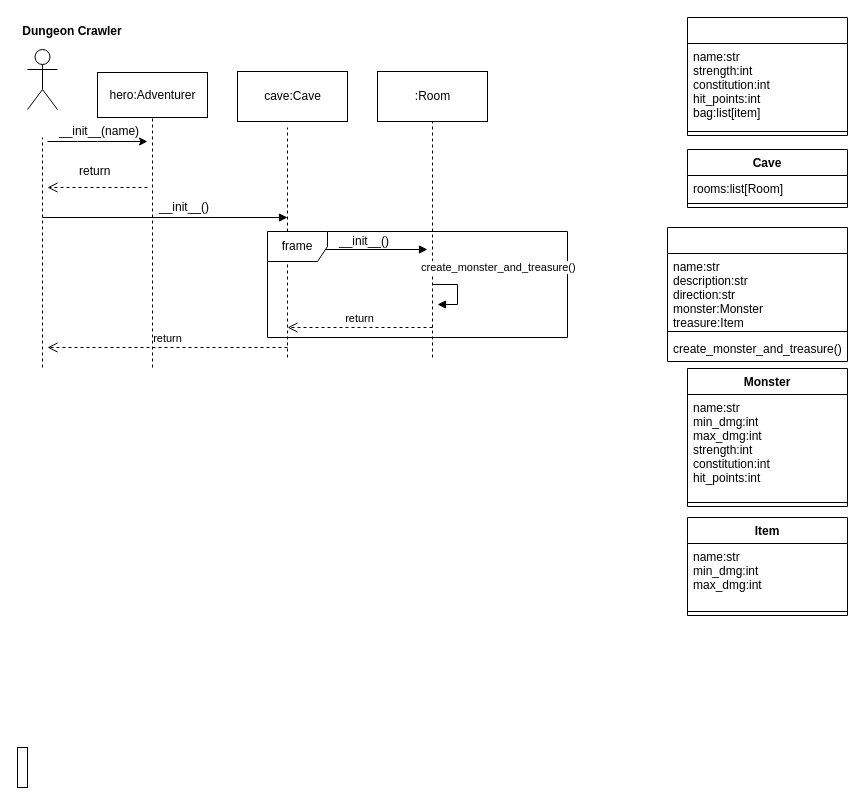
Image size: 865x805. Some labels were removed from this diagram. Each missing label, with the box of its shape:
Actor: (26, 48, 58, 110)
Adventurer: (686, 16, 848, 136)
Room: (666, 226, 848, 362)
